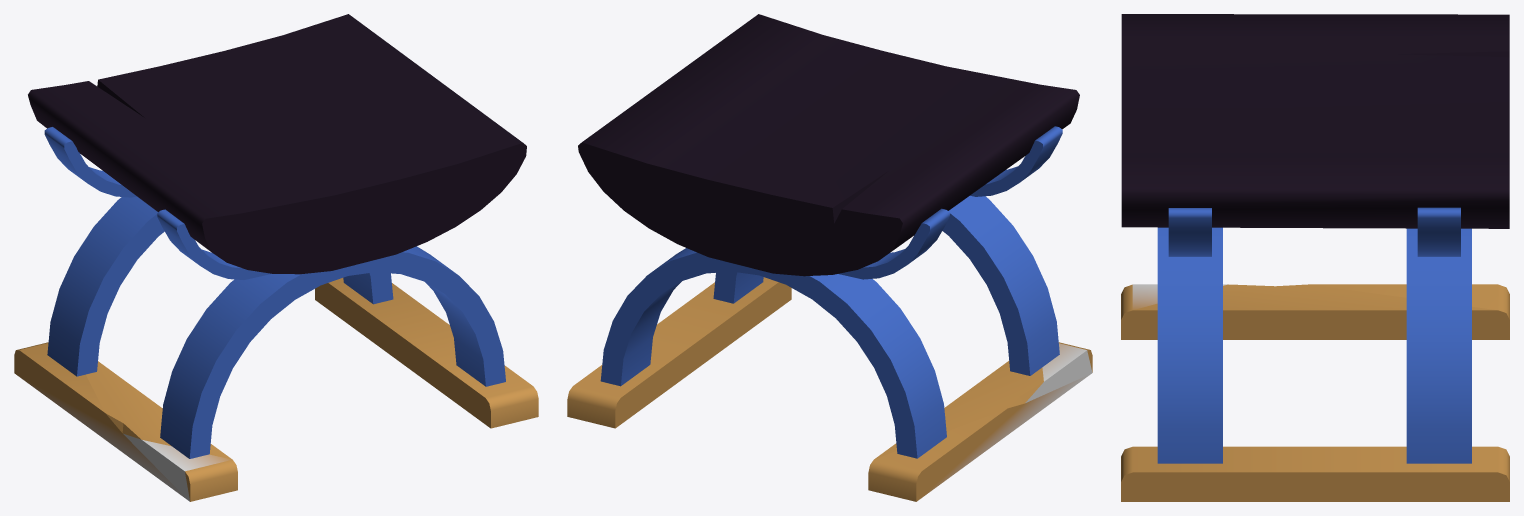
The model's file is chair_1.fbx.
3 views of the same model, side by side, from view 1: azimuth 30°, elevation 25°; view 2: azimuth 150°, elevation 25°; view 3: azimuth 270°, elevation 25° (orthographic). The views are drawn at different scales.
Parts seen in each view (by area): view 1: Cylinder; view 2: Cylinder; view 3: Cylinder.
Part boxes in pixels (<box>): Cylinder: <box>14,14,538,501</box>; Cylinder: <box>567,14,1092,501</box>; Cylinder: <box>1121,14,1509,501</box>.
Bounding box in the file's own units: 116 × 88.68 × 101.
